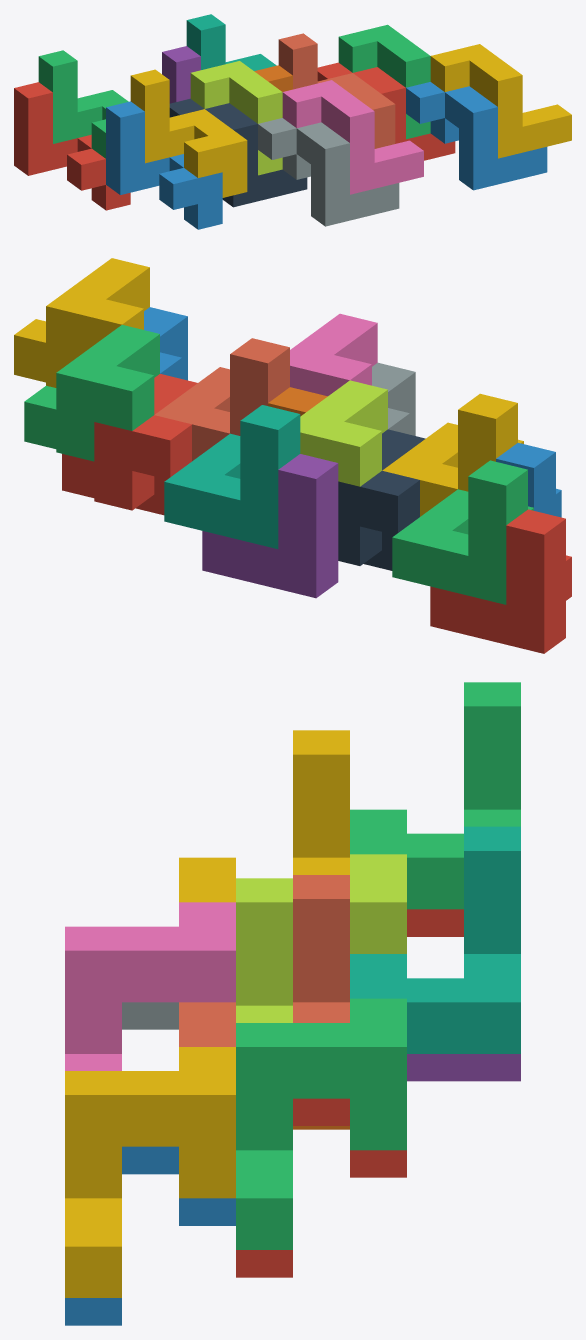
Rendered from tiling.obj.
The picture shows the model from 3 angles, top to bottom: view 1: azimuth 30°, elevation 25°; view 2: azimuth 150°, elevation 25°; view 3: azimuth 270°, elevation 25°; orthographic projection. The views are drawn at different scales.
Visible parts, largest first — view 1: copy_2_domain_2, copy_2_domain_6, copy_1_domain_4, copy_1_domain_2, copy_2_domain_4, copy_2_domain_8, copy_1_domain_1, copy_1_domain_3, copy_2_domain_7, copy_2_domain_3, copy_1_domain_8, copy_2_domain_1 (+4 smaller); view 2: copy_1_domain_7, copy_1_domain_3, copy_2_domain_7, copy_1_domain_1, copy_1_domain_5, copy_2_domain_5, copy_2_domain_8, copy_1_domain_4, copy_1_domain_8, copy_2_domain_1, copy_2_domain_3, copy_2_domain_4 (+4 smaller); view 3: copy_2_domain_7, copy_2_domain_8, copy_1_domain_7, copy_2_domain_4, copy_1_domain_3, copy_2_domain_3, copy_1_domain_8, copy_1_domain_4, copy_2_domain_6, copy_2_domain_5, copy_1_domain_5, copy_1_domain_1 (+1 smaller).
Part boxes in pixels (box(x1,y1,x2,y2)): copy_2_domain_2: box(258, 118, 399, 226); copy_2_domain_6: box(406, 82, 547, 190); copy_1_domain_4: box(130, 69, 247, 197); copy_1_domain_2: box(106, 101, 222, 229); copy_2_domain_4: box(282, 80, 423, 194); copy_2_domain_8: box(430, 44, 571, 158); copy_1_domain_1: box(14, 82, 130, 210); copy_1_domain_3: box(38, 50, 128, 158); copy_2_domain_7: box(338, 24, 430, 139); copy_2_domain_3: box(190, 61, 282, 175); copy_1_domain_8: box(278, 33, 395, 148); copy_2_domain_1: box(169, 98, 307, 207); copy_1_domain_7: box(164, 405, 300, 548); copy_1_domain_3: box(392, 460, 533, 604); copy_2_domain_7: box(24, 324, 159, 461); copy_1_domain_1: box(430, 509, 571, 653); copy_1_domain_5: box(202, 454, 338, 598); copy_2_domain_5: box(62, 374, 197, 515); copy_2_domain_8: box(14, 258, 149, 387); copy_1_domain_4: box(382, 393, 523, 516); copy_1_domain_8: box(154, 338, 289, 461); copy_2_domain_1: box(338, 429, 425, 570); copy_2_domain_3: box(300, 380, 387, 486); copy_2_domain_4: box(290, 313, 377, 396); copy_2_domain_7: box(236, 998, 406, 1249); copy_2_domain_8: box(65, 1047, 235, 1297); copy_1_domain_7: box(350, 826, 520, 1053); copy_2_domain_4: box(65, 902, 235, 1070); copy_1_domain_3: box(350, 682, 520, 909); copy_2_domain_3: box(236, 854, 406, 1022); copy_1_domain_8: box(179, 875, 349, 1046); copy_1_domain_4: box(179, 730, 349, 902); copy_2_domain_6: box(65, 1146, 235, 1325); copy_2_domain_5: box(236, 1098, 406, 1277); copy_1_domain_5: box(407, 1054, 520, 1081); copy_1_domain_1: box(407, 909, 463, 936).
Bounding box in the file's own units: 18 × 5 × 8.
